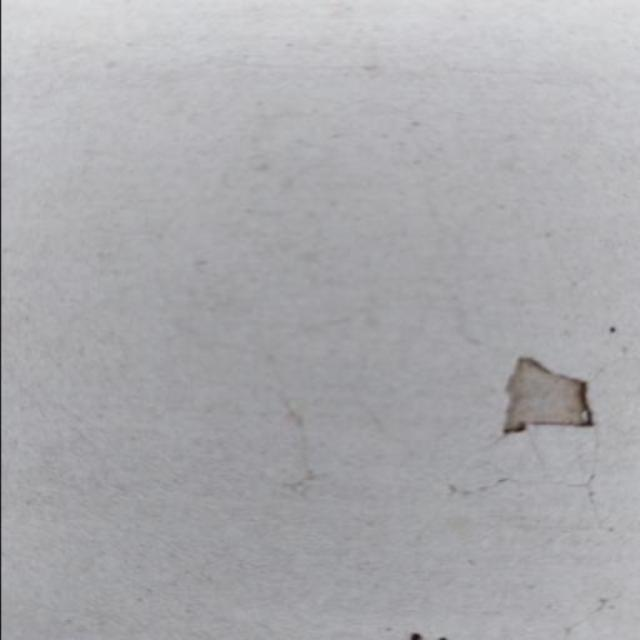D10: (502, 358, 596, 437)
